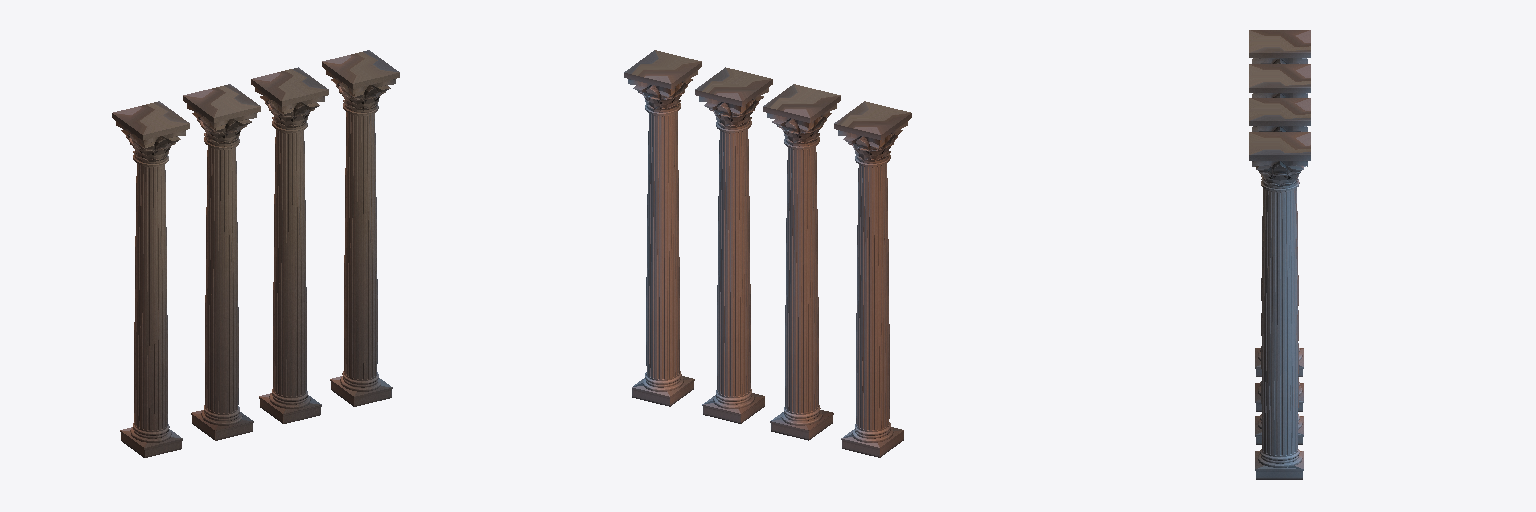
The picture shows the model from 3 angles: view 1: azimuth 30°, elevation 25°; view 2: azimuth 150°, elevation 25°; view 3: azimuth 270°, elevation 25°; orthographic projection.
Parts seen in each view (by area): view 1: Pillar_Group_Mid; view 2: Pillar_Group_Mid; view 3: Pillar_Group_Mid.
Part boxes in pixels (x1,y1,x2,y2): Pillar_Group_Mid: (112, 50, 399, 457); Pillar_Group_Mid: (624, 50, 911, 457); Pillar_Group_Mid: (1249, 30, 1310, 479).
Bounding box in the file's own units: 10.11 × 12.28 × 2.09.
Materials: 1 (1 with a texture image).